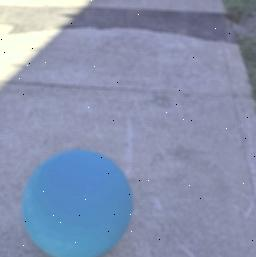algae: (23, 149, 132, 257)
